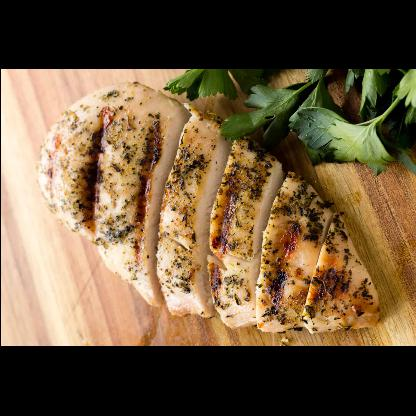grilled chicken breast: (36, 82, 378, 332)
